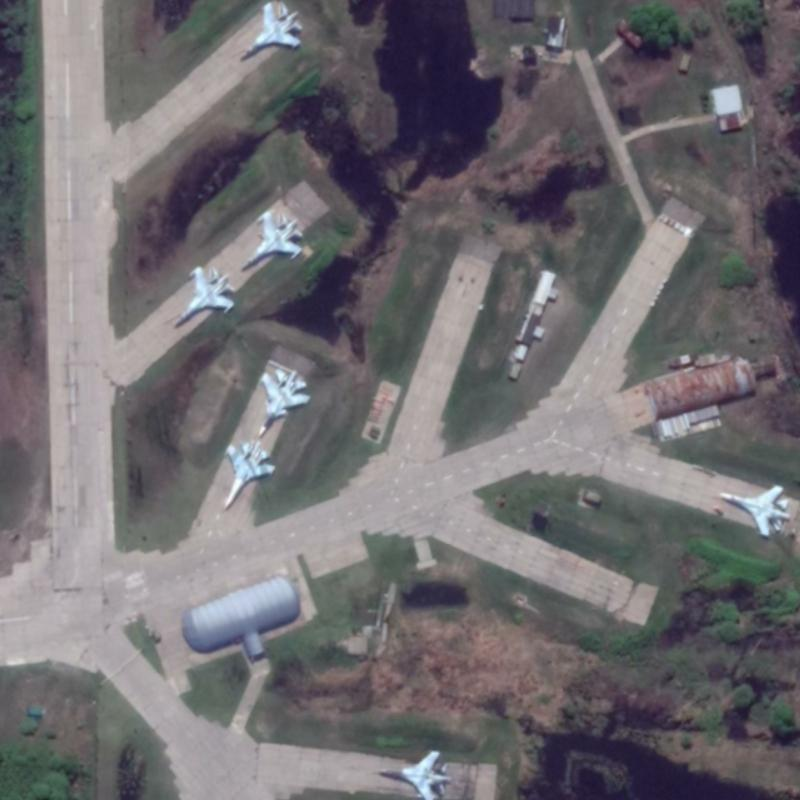A1: (167, 262, 236, 333), (234, 0, 304, 66), (238, 207, 305, 274), (217, 438, 276, 512), (373, 747, 456, 799), (714, 481, 791, 536)
A19: (253, 366, 310, 438)
